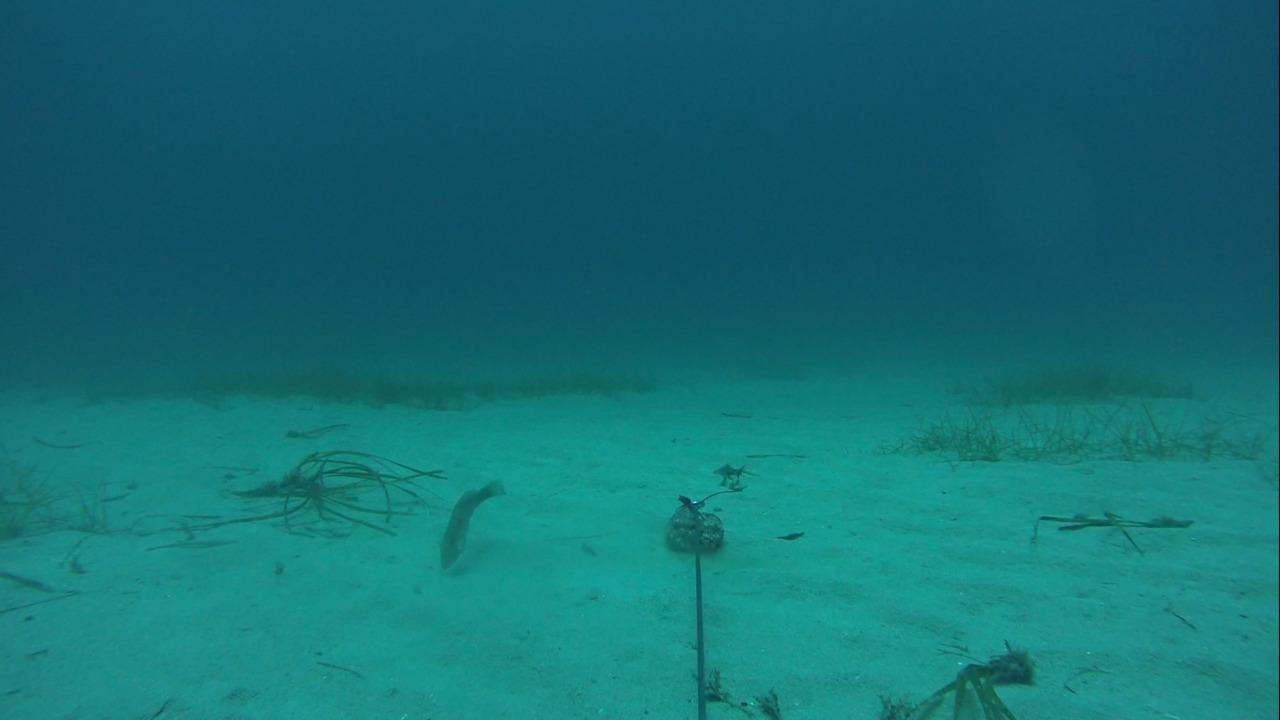raor: (433, 477, 511, 575)
